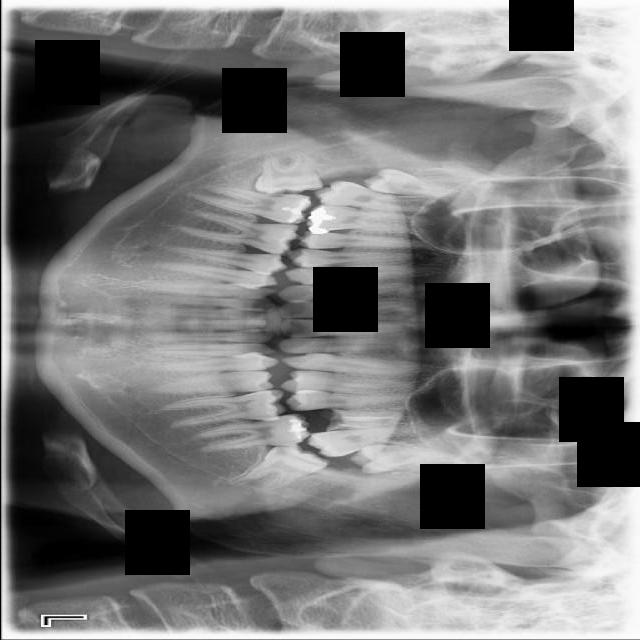3M ESPE Implant: (359, 166, 475, 201)
52: (260, 190, 313, 228), (259, 412, 312, 449), (302, 201, 358, 235), (271, 437, 291, 461), (265, 193, 286, 198)
73: (317, 407, 405, 436), (88, 578, 92, 592)
BioHorizons Implant: (304, 420, 453, 460)
BioLife Implant: (346, 440, 485, 475)
Biomet 3i Implant: (225, 427, 331, 508)
Blue Sky Bio Implant: (189, 412, 312, 454)
Caries: (311, 178, 435, 215)
Implant: (193, 183, 312, 227)
Keystone Dental Implant: (251, 147, 325, 197)
